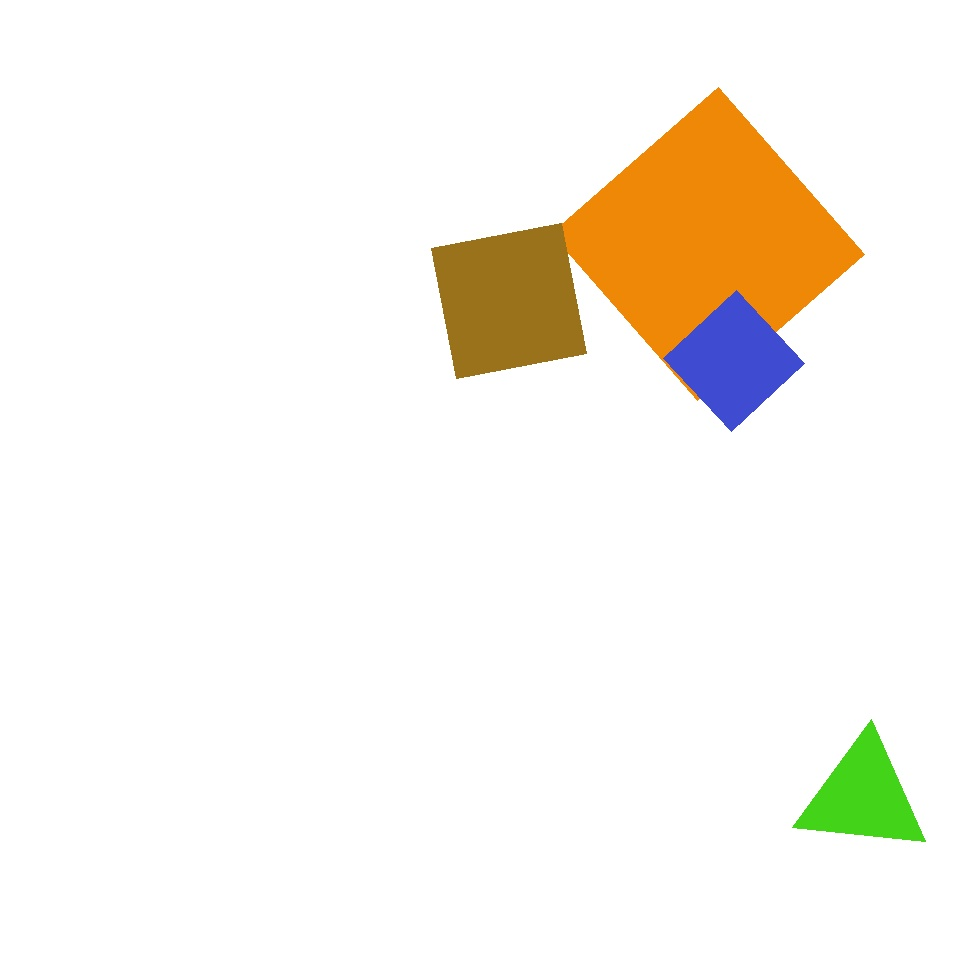circle: (253, 507, 485, 727), (796, 735, 930, 857)
square: (552, 87, 865, 400), (100, 210, 352, 462), (99, 362, 304, 566), (431, 223, 586, 378), (663, 290, 804, 432)
triangle: (184, 266, 550, 634), (350, 518, 522, 689)
